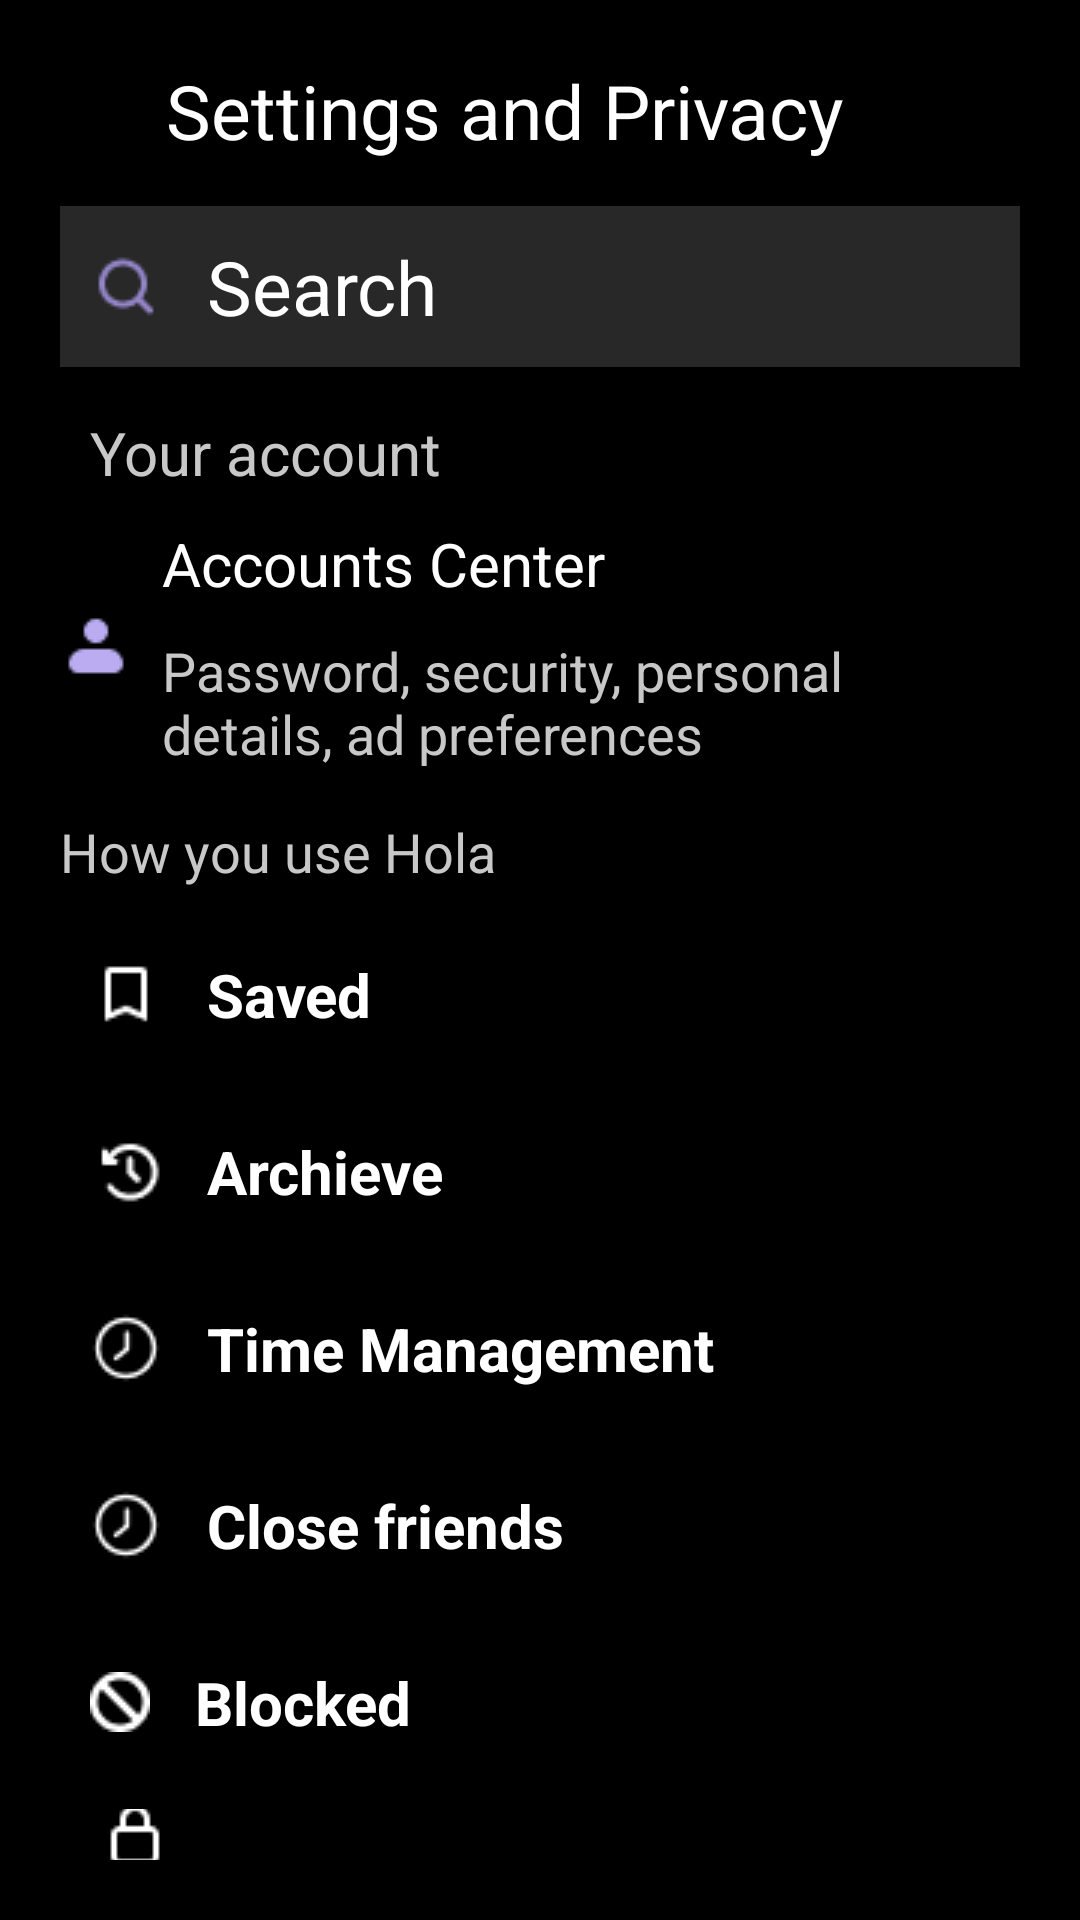

Named icons in this screenshot (1080 x 1920) and their bounding boxes, {"x1": x1, "y1": y1, "x2": x2, "y2": y2}:
profile: {"x1": 68, "y1": 618, "x2": 124, "y2": 674}
